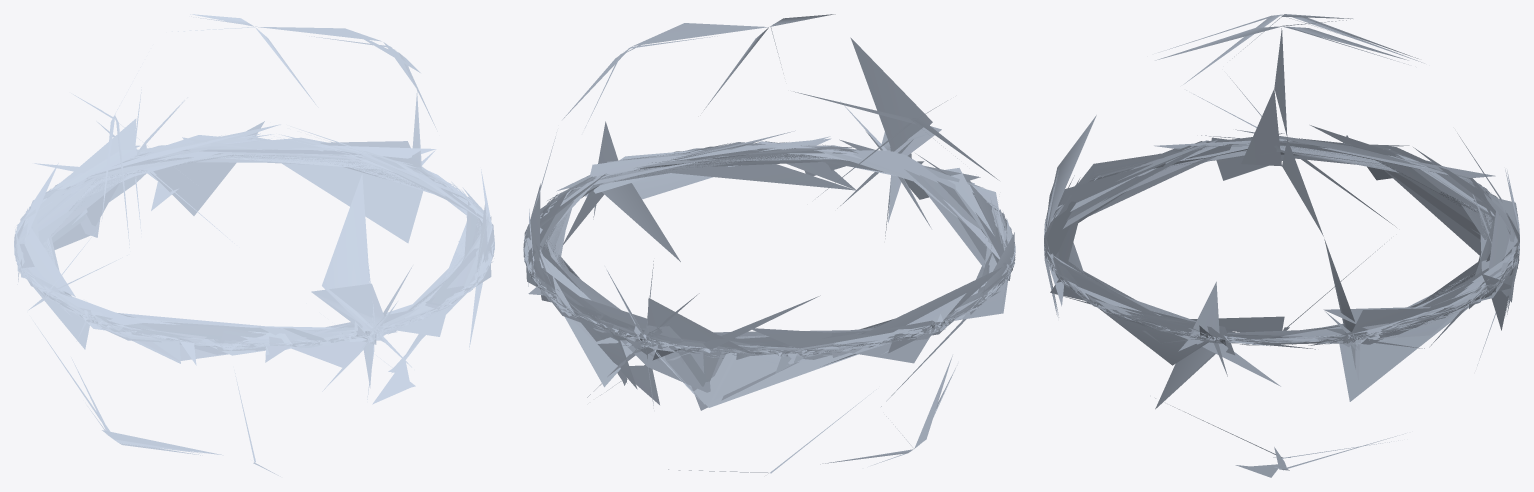
The picture shows the model from 3 angles, left to right: view 1: azimuth 30°, elevation 25°; view 2: azimuth 150°, elevation 25°; view 3: azimuth 270°, elevation 25°; orthographic projection. The views are drawn at different scales.
Visible parts, largest first — view 1: 9-9-structural; view 2: 9-9-structural; view 3: 9-9-structural.
Part boxes in pixels (<box>): 9-9-structural: <box>14,14,494,476</box>; 9-9-structural: <box>523,14,1015,473</box>; 9-9-structural: <box>1044,14,1519,477</box>.
Bounding box in the file's own units: 2 × 2 × 2.
